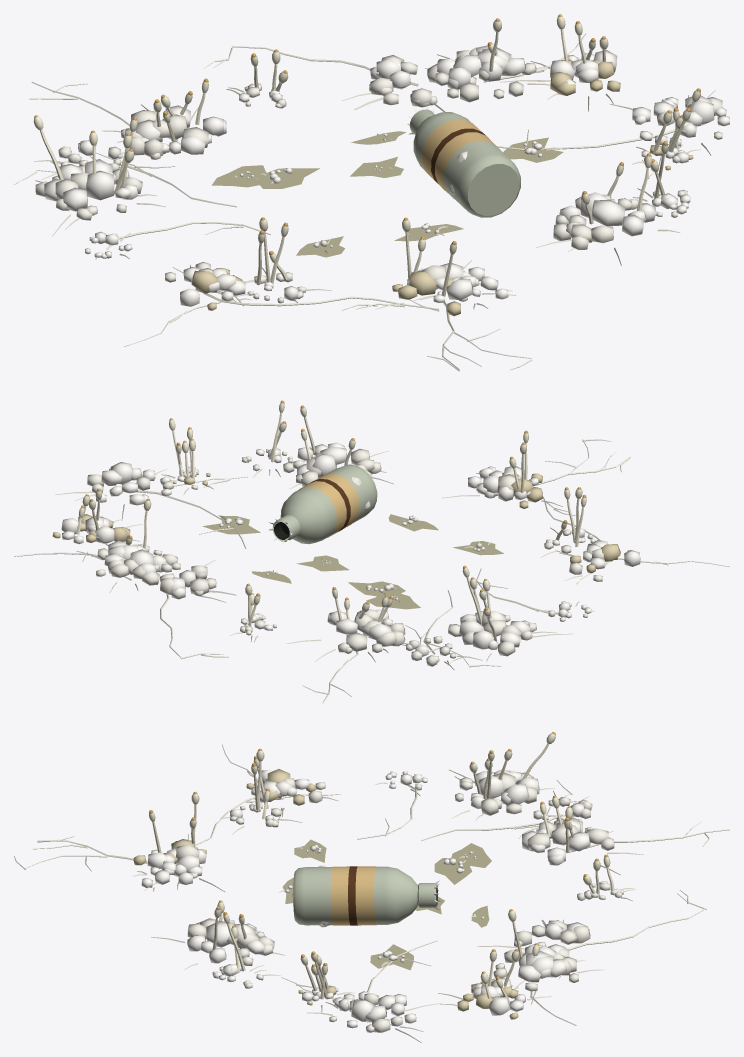
The model's file is fungus_floor@1.glb.
3 renders of one model, top to bottom at view 1: azimuth 30°, elevation 25°; view 2: azimuth 150°, elevation 25°; view 3: azimuth 270°, elevation 25°, orthographic. The views are drawn at different scales.
Visible parts, largest first — view 1: teil1, teil2, teil6, teil8, teil0, teil4, teil5, teil3, teil10, teil7; view 2: teil1, teil2, teil6, teil8, teil0, teil4, teil5, teil3, teil10; view 3: teil1, teil2, teil6, teil8, teil4, teil0, teil10, teil5, teil3.
Boxes of the visible parts, bbox=[...] form: teil1: bbox=[44, 45, 729, 306]; teil2: bbox=[35, 47, 722, 303]; teil6: bbox=[33, 16, 700, 296]; teil8: bbox=[410, 109, 520, 217]; teil0: bbox=[211, 131, 563, 257]; teil4: bbox=[14, 33, 675, 371]; teil5: bbox=[191, 59, 693, 316]; teil3: bbox=[34, 54, 715, 309]; teil10: bbox=[422, 120, 499, 199]; teil7: bbox=[34, 14, 700, 255]; teil1: bbox=[61, 442, 640, 656]; teil2: bbox=[87, 449, 604, 666]; teil6: bbox=[76, 403, 586, 641]; teil8: bbox=[273, 464, 377, 544]; teil0: bbox=[202, 514, 503, 609]; teil4: bbox=[14, 439, 729, 702]; teil5: bbox=[52, 470, 631, 573]; teil3: bbox=[55, 447, 594, 670]; teil10: bbox=[299, 473, 359, 537]; teil1: bbox=[141, 770, 607, 1032]; teil2: bbox=[151, 770, 623, 1032]; teil6: bbox=[149, 733, 614, 1002]; teil8: bbox=[293, 866, 437, 925]; teil4: bbox=[14, 744, 729, 1025]; teil0: bbox=[282, 839, 491, 970]; teil10: bbox=[330, 866, 376, 925]; teil5: bbox=[133, 769, 518, 1019]; teil3: bbox=[132, 769, 643, 1042].
Size of the model in its own units: 1.3 by 0.141 by 1.32.
